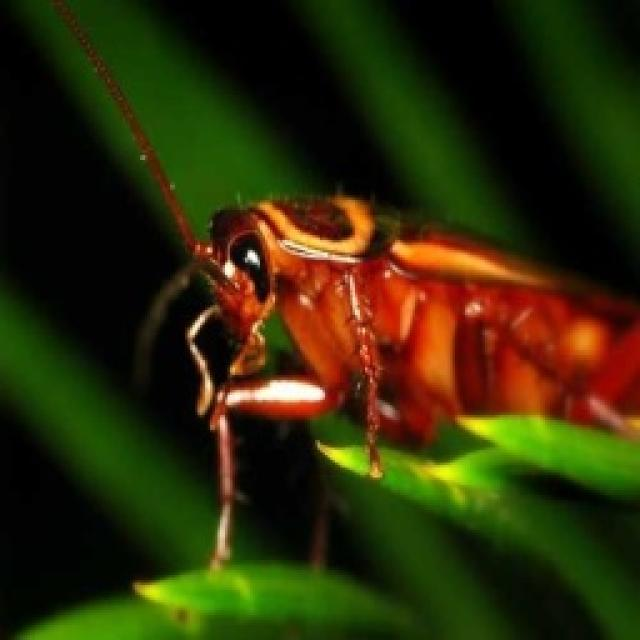cockroach: (112, 97, 640, 552)
